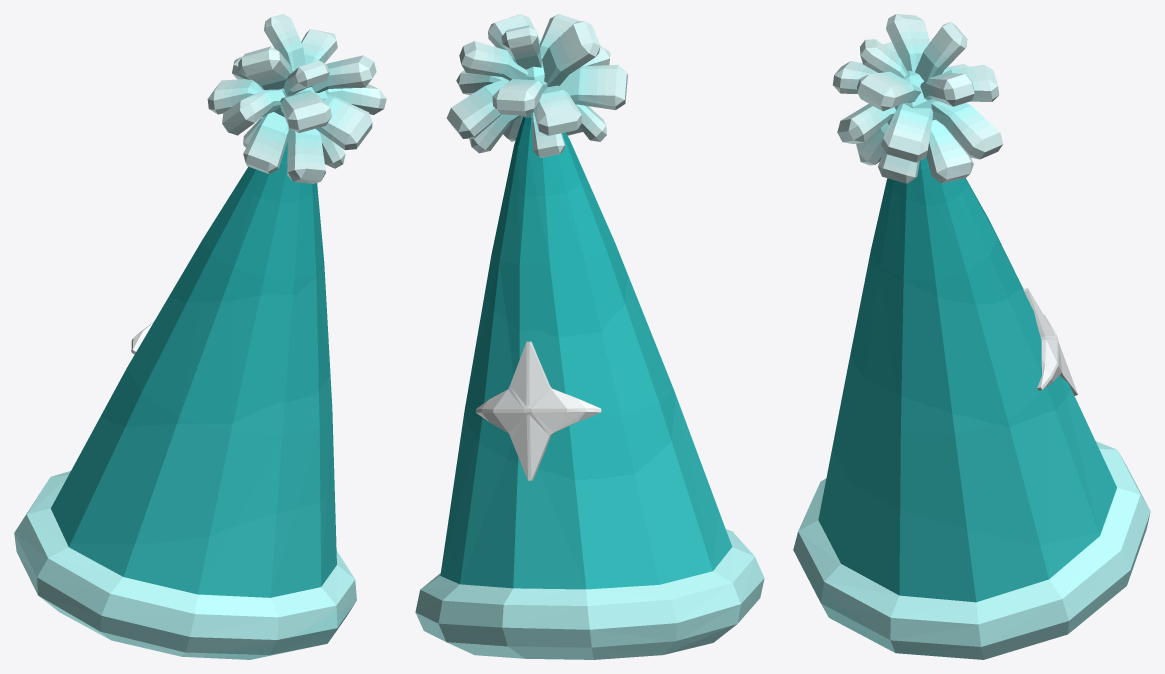
File: CharSkyKid_Horn_BirthdayHat_01__Hat_BirthdayHat_01_StripAnim_CompOcc_ZipPos_ZipUvs_StripUv13_StripNorm.glb
3 views of the same model, side by side, from view 1: azimuth 30°, elevation 25°; view 2: azimuth 150°, elevation 25°; view 3: azimuth 270°, elevation 25° (orthographic). The views are drawn at different scales.
Parts seen in each view (by area): view 1: CharSkyKid_Horn_BirthdayHat_01; view 2: CharSkyKid_Horn_BirthdayHat_01; view 3: CharSkyKid_Horn_BirthdayHat_01.
Part boxes in pixels (x1,y1,x2,y2): CharSkyKid_Horn_BirthdayHat_01: (14,14,386,659); CharSkyKid_Horn_BirthdayHat_01: (415,14,764,659); CharSkyKid_Horn_BirthdayHat_01: (793,14,1150,659).
Size of the model in its own units: 2.19 by 4.05 by 2.12.
1 material, 1 textured.
